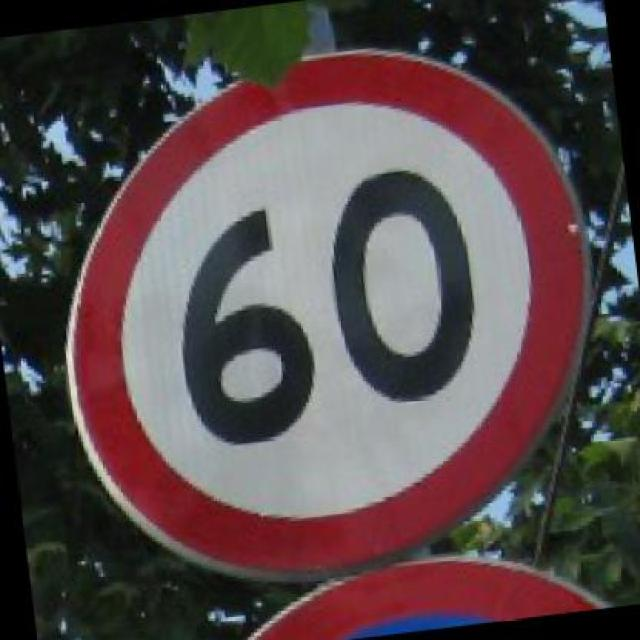Limite-60: (62, 45, 601, 586)
